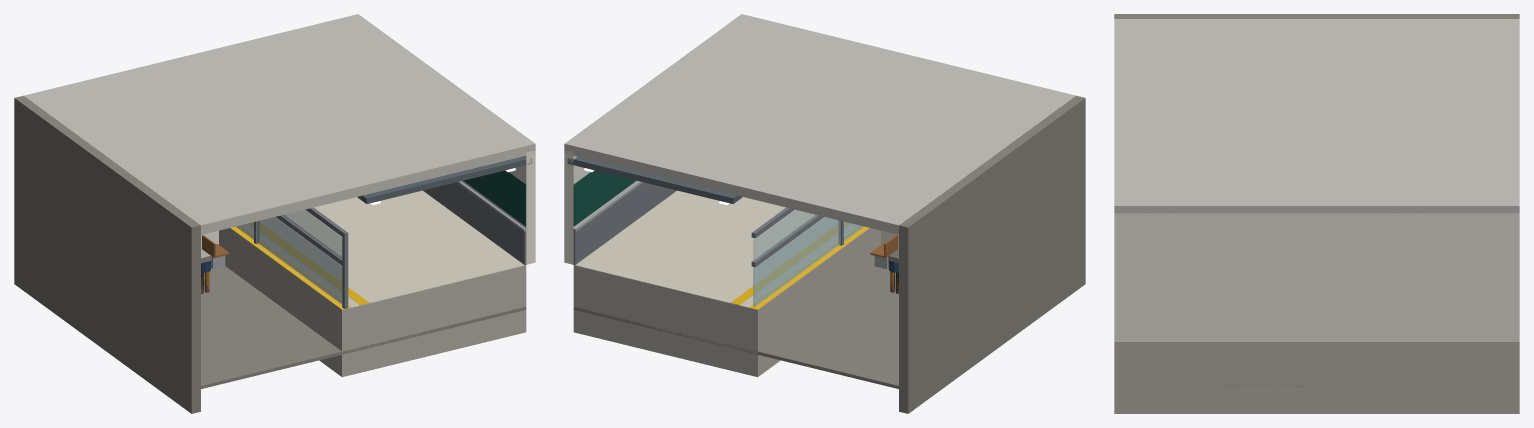
File: platform.glb
3 views of the same model, side by side, from view 1: azimuth 30°, elevation 25°; view 2: azimuth 150°, elevation 25°; view 3: azimuth 270°, elevation 25° (orthographic). The views are drawn at different scales.
Parts seen in each view (by area): view 1: PlatformUnderground, PlatformOpen, PSDFull, PSDHalf, Bench; view 2: PlatformUnderground, PlatformOpen, PSDFull, PSDHalf, Bench; view 3: PlatformUnderground, PlatformOpen.
Part boxes in pixels (x1=…): PlatformUnderground: x1=14, y1=14, x2=535, y2=413; PlatformOpen: x1=219, y1=156, x2=532, y2=377; PSDFull: x1=236, y1=207, x2=348, y2=308; PSDHalf: x1=236, y1=215, x2=348, y2=307; Bench: x1=202, y1=235, x2=229, y2=269; PlatformUnderground: x1=564, y1=14, x2=1085, y2=413; PlatformOpen: x1=567, y1=156, x2=880, y2=377; PSDFull: x1=751, y1=207, x2=863, y2=306; PSDHalf: x1=751, y1=215, x2=863, y2=306; Bench: x1=870, y1=235, x2=897, y2=269; PlatformUnderground: x1=1114, y1=14, x2=1519, y2=388; PlatformOpen: x1=1114, y1=342, x2=1519, y2=413.
Size of the model in its own units: 11.2 by 5.8 by 10.
